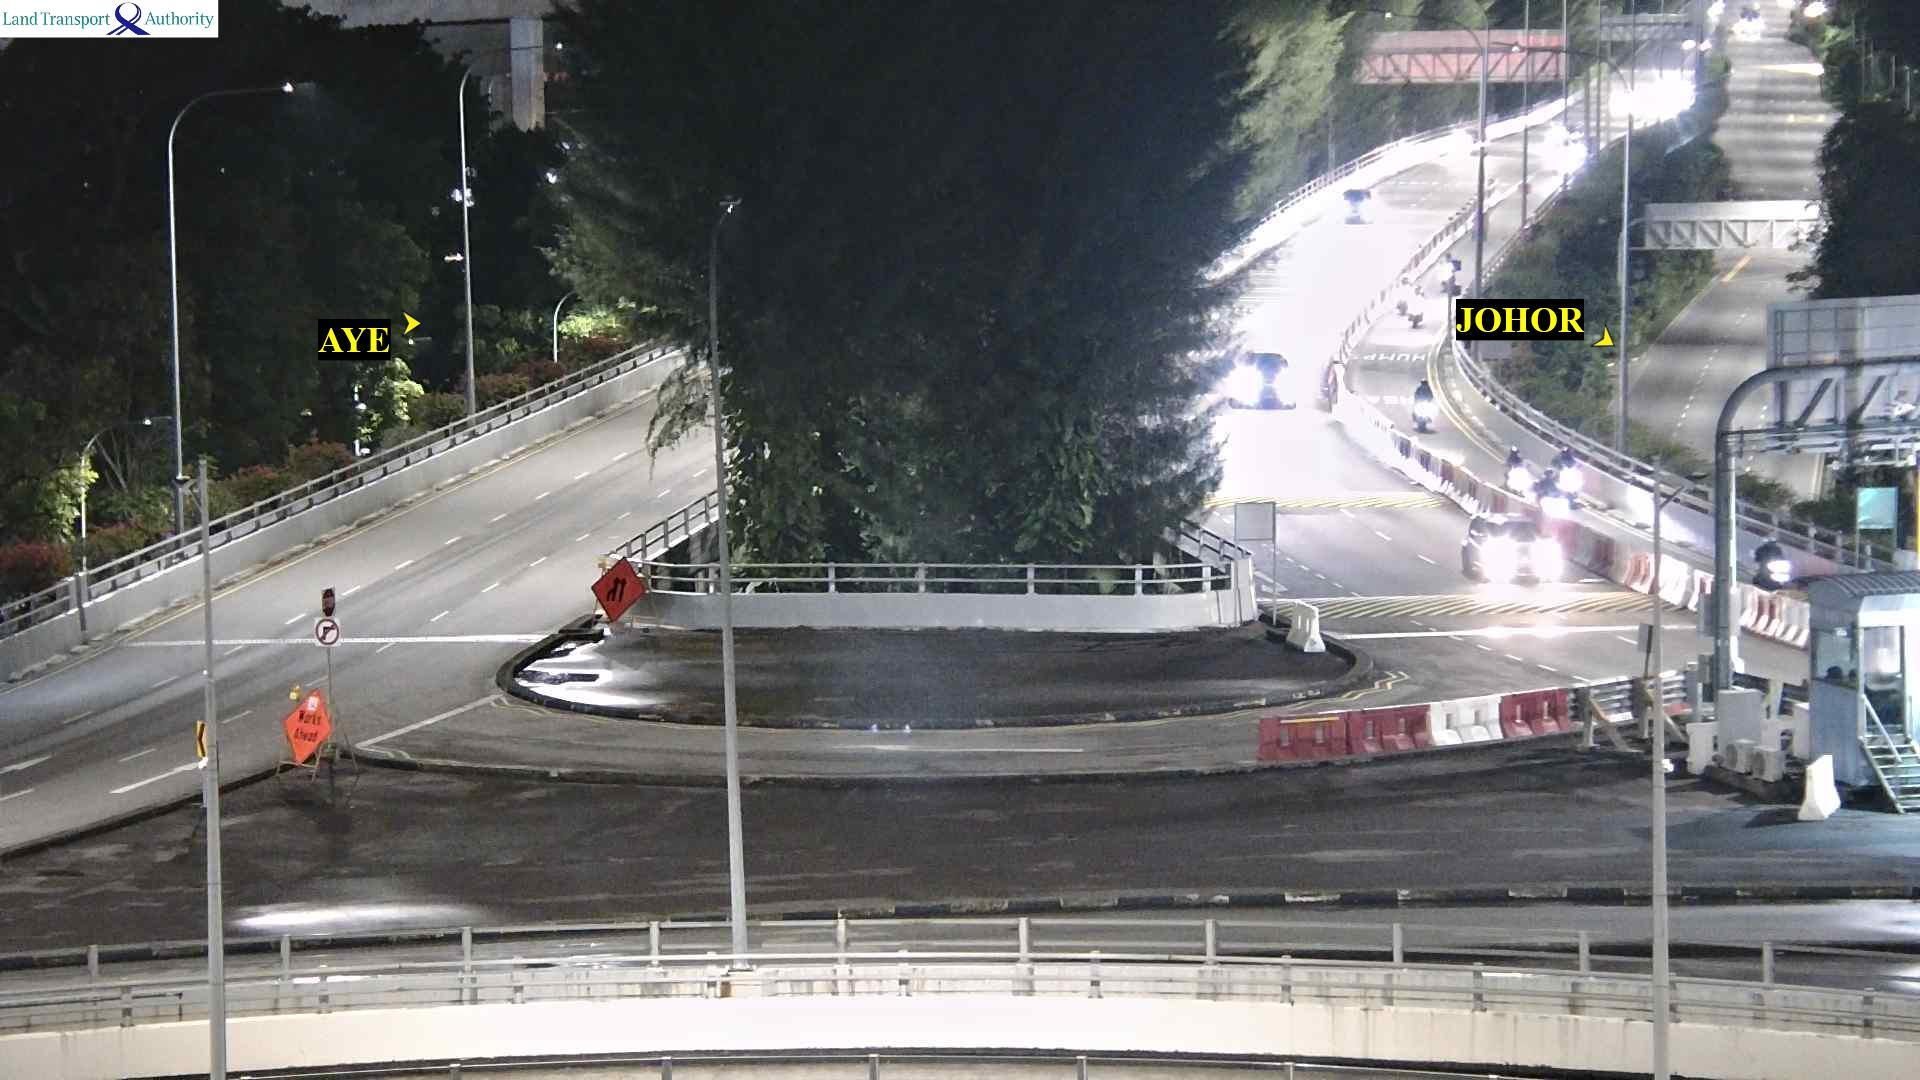vehicle-secondlink-johor: (1465, 513, 1556, 592), (1229, 350, 1295, 407), (1753, 537, 1789, 587), (1339, 186, 1382, 223), (1410, 384, 1436, 434), (1541, 470, 1567, 511), (1556, 448, 1580, 490), (1506, 448, 1528, 491), (1444, 255, 1464, 289), (1398, 302, 1422, 330)
